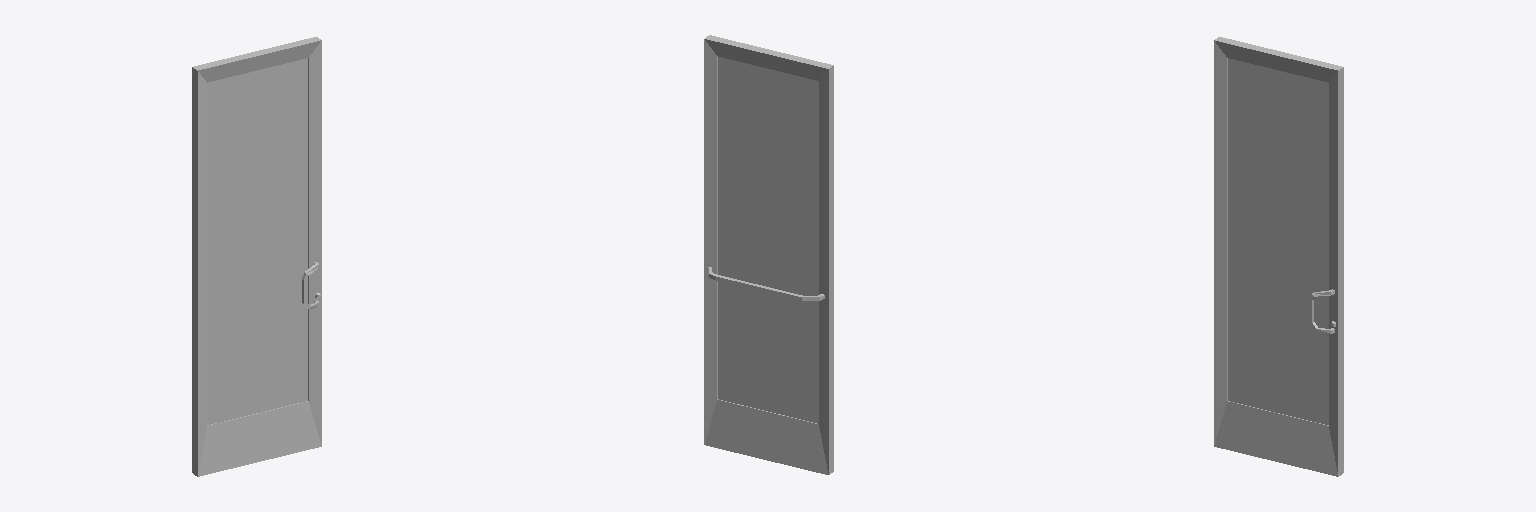
The model's file is Building_Door_Left_LOD2.obj.
The picture shows the model from 3 angles: view 1: azimuth 30°, elevation 25°; view 2: azimuth 150°, elevation 25°; view 3: azimuth 330°, elevation 25°; orthographic projection.
Parts seen in each view (by area): view 1: Building_Door_Left_LOD2 Building_Door_Left; view 2: Building_Door_Left_LOD2 Building_Door_Left; view 3: Building_Door_Left_LOD2 Building_Door_Left.
Part boxes in pixels (left/top/right/bottom): Building_Door_Left_LOD2 Building_Door_Left: left=192, top=37, right=321, bottom=476; Building_Door_Left_LOD2 Building_Door_Left: left=704, top=35, right=833, bottom=474; Building_Door_Left_LOD2 Building_Door_Left: left=1214, top=37, right=1343, bottom=476.
Bounding box in the file's own units: 79.94 × 250 × 20.74.